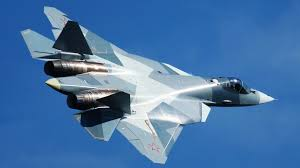fighter: (20, 5, 279, 165)
